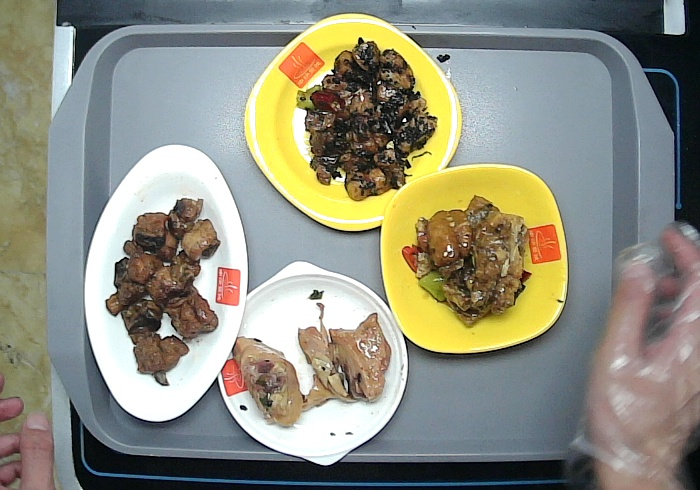SHKJ-Bao_Yu_Pan: (216, 259, 409, 466)
SHKJ-Huang_Se_Cai_Die: (378, 162, 569, 354)
SHKJ-Huang_Se_Si_Fang_Cai_Die: (243, 12, 462, 232)
SHKJ-Yu_Pan: (84, 143, 249, 423)
